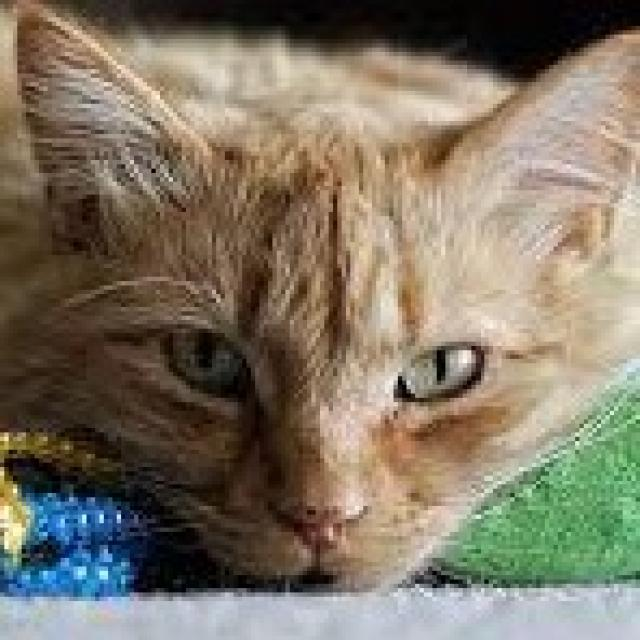Sad: (91, 246, 518, 586)
